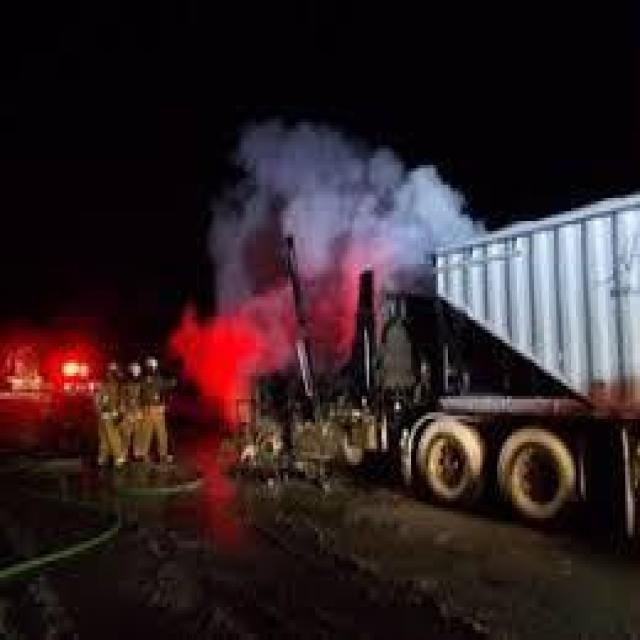smoke: (166, 100, 458, 418)
